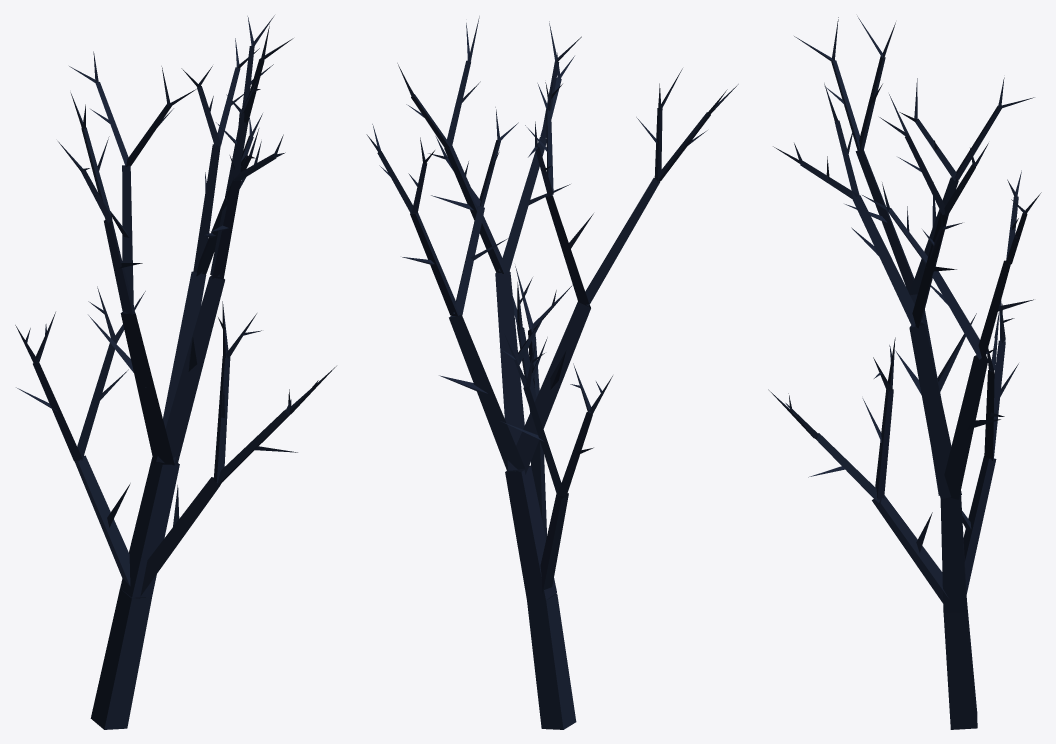
File: tree_bare_c.glb
The picture shows the model from 3 angles, left to right: view 1: azimuth 30°, elevation 25°; view 2: azimuth 150°, elevation 25°; view 3: azimuth 270°, elevation 25°; orthographic projection. The views are drawn at different scales.
Visible parts, largest first — view 1: Tree_Bare_C; view 2: Tree_Bare_C; view 3: Tree_Bare_C.
Boxes of the visible parts, x1,y1,x2,y2 form: Tree_Bare_C: (15, 15, 336, 729); Tree_Bare_C: (366, 16, 738, 729); Tree_Bare_C: (768, 16, 1041, 729).
Bounding box in the file's own units: 2.27 × 5.23 × 1.88.
